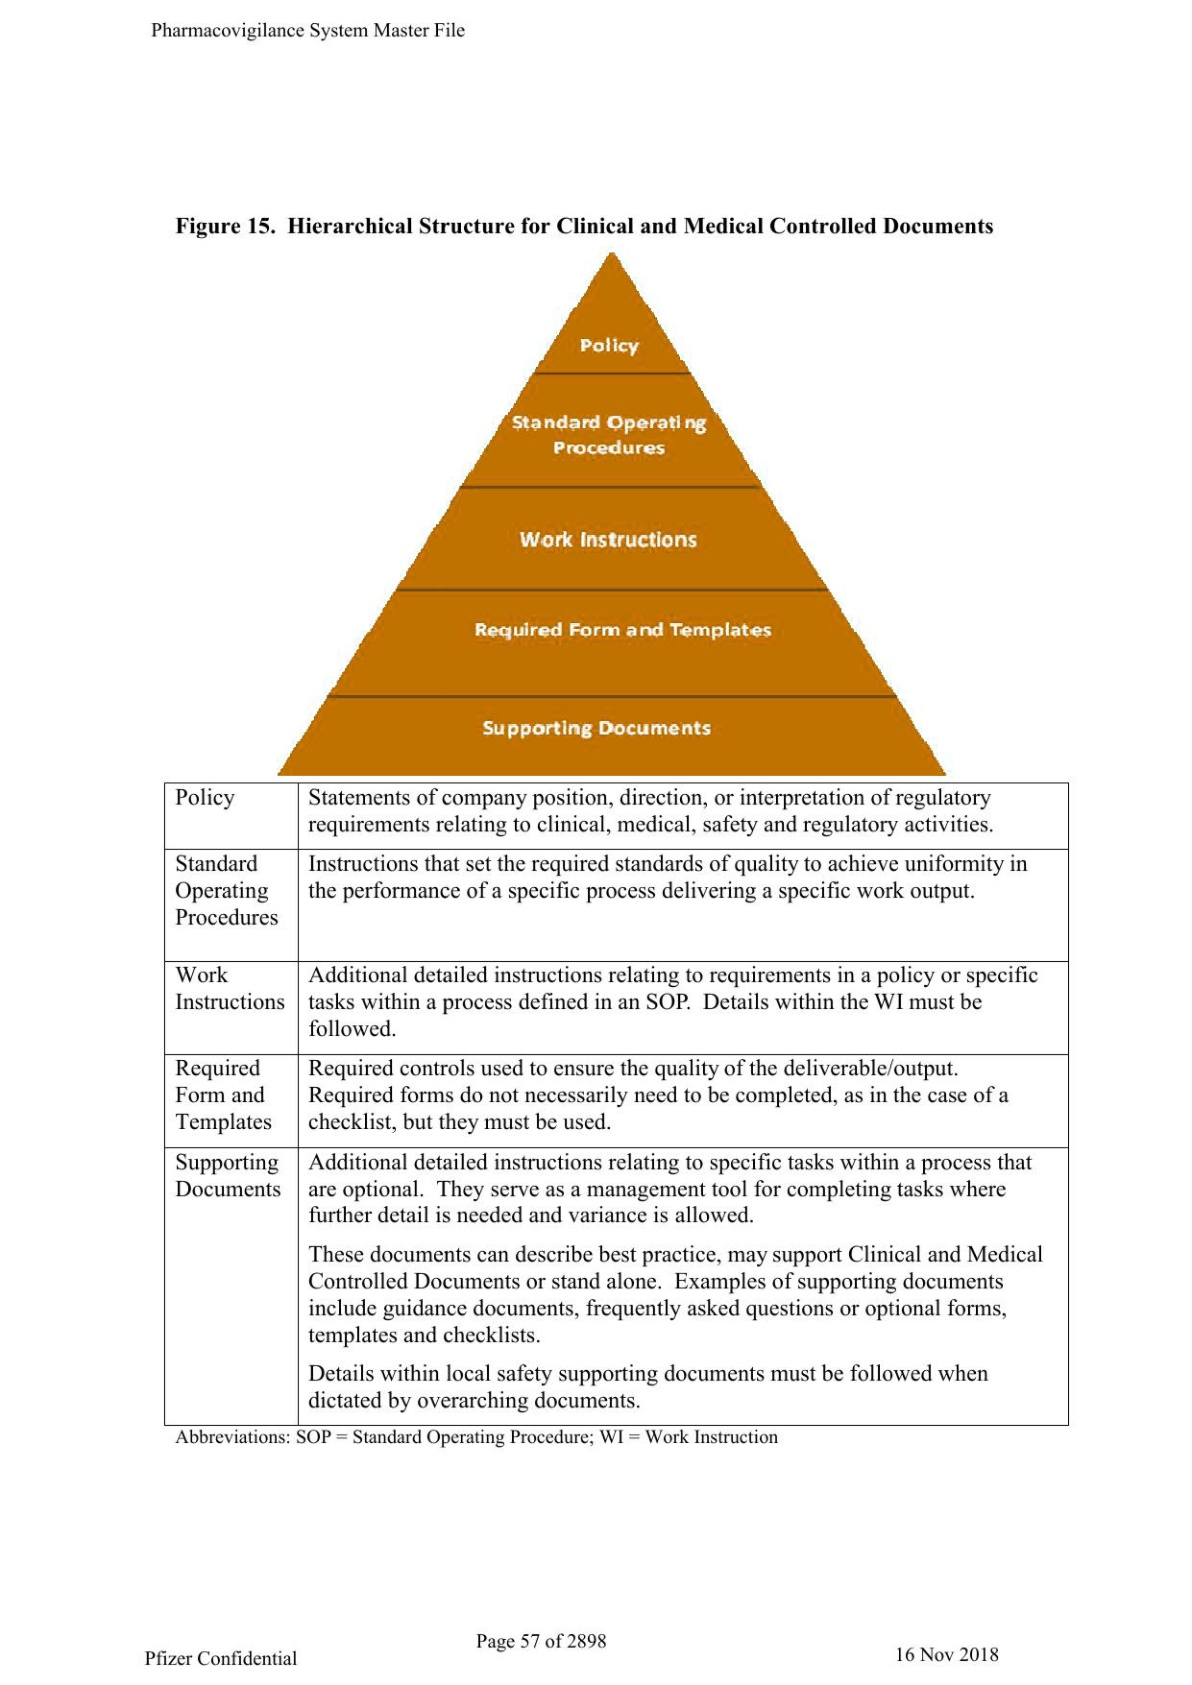full_lined: (163, 782, 1069, 1427)
